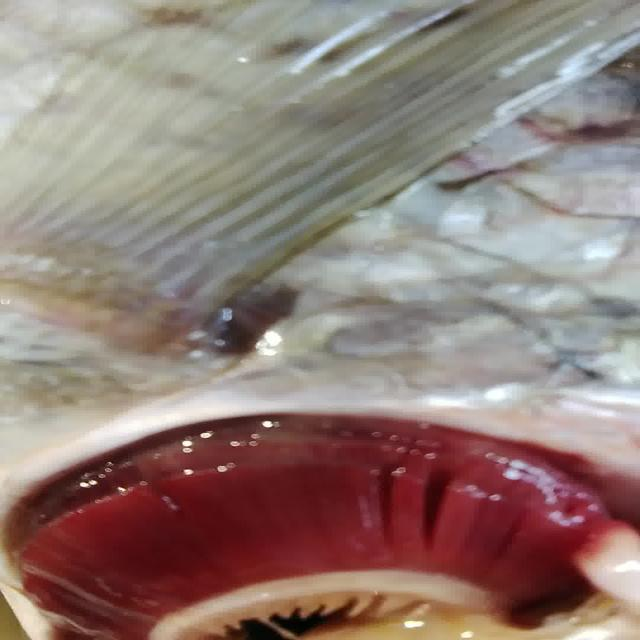Fresh: (6, 409, 621, 619)
